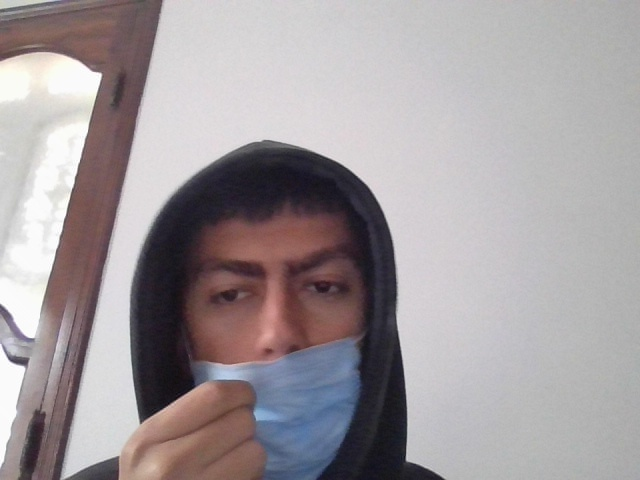mask_weared_incorrect: (168, 182, 375, 479)
